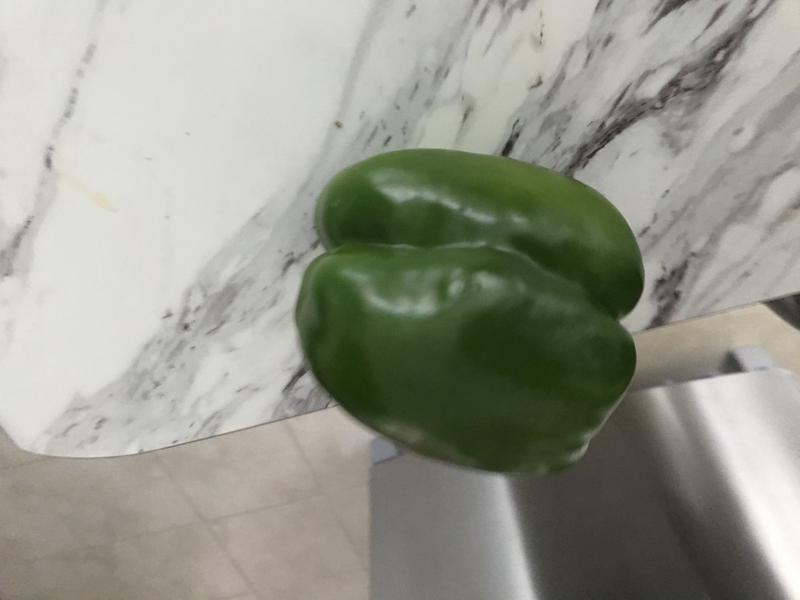green_pepper: (292, 132, 647, 499)
